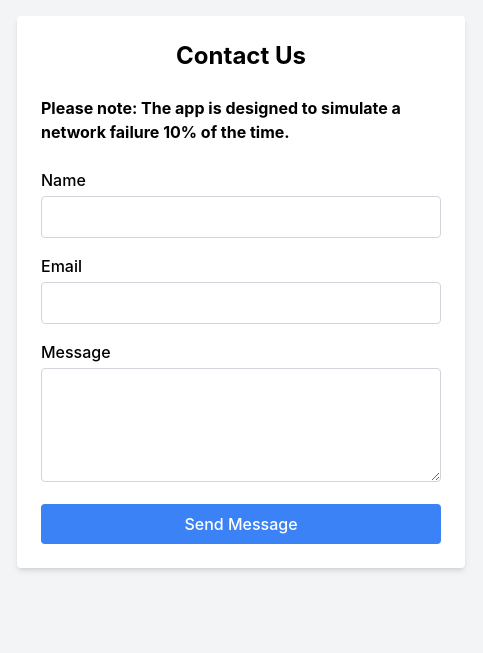
it: ContactForm Component › displays error message when form submission fails
Type "Test User" into the field labelled "Name" at (241, 217), box [41,196,441,238]
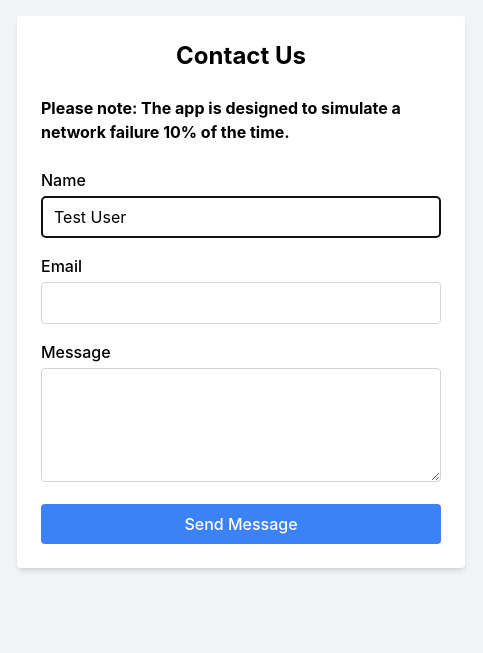
Type "test@example.com" into the field labelled "Email" at (241, 303), box [41,282,441,324]
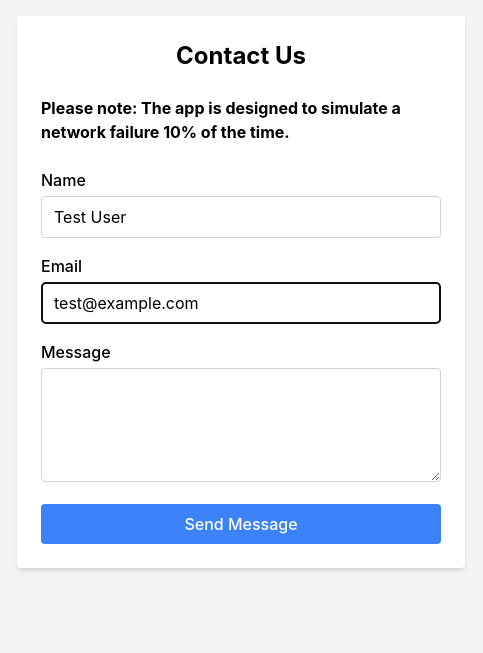
Type "Test message with at least 10 chars" into the text box labelled "Message" at (241, 425), box [41,368,441,482]
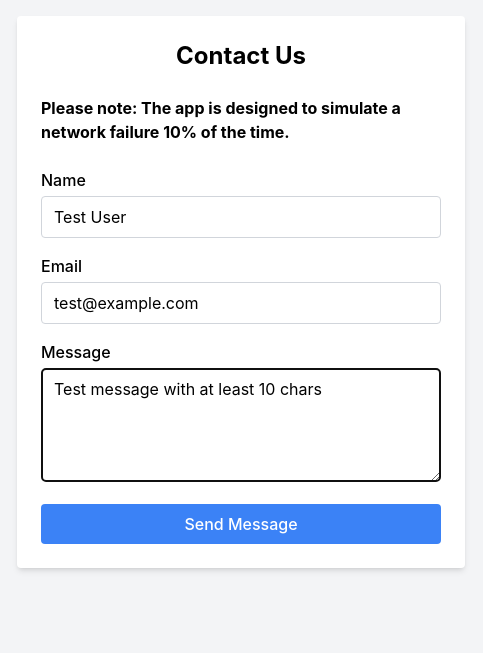
Click the button "Send Message" at (241, 524), box [41,504,441,544]
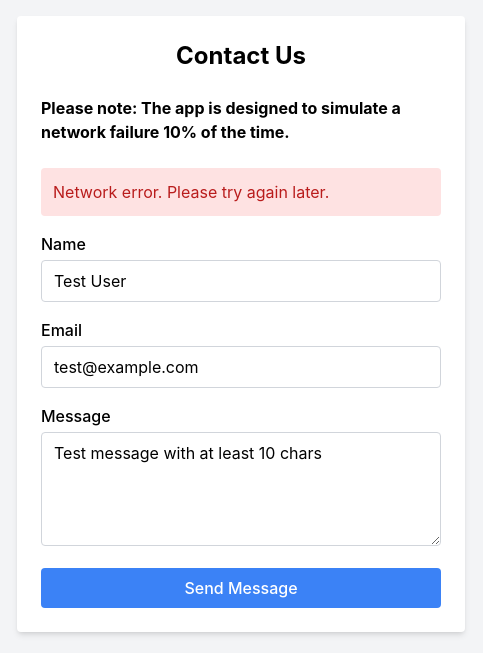
Check: the text "Network error. Please try again later." is shown, box [41,168,441,216]
